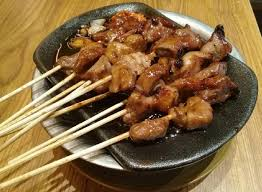sate: (51, 9, 247, 148)
